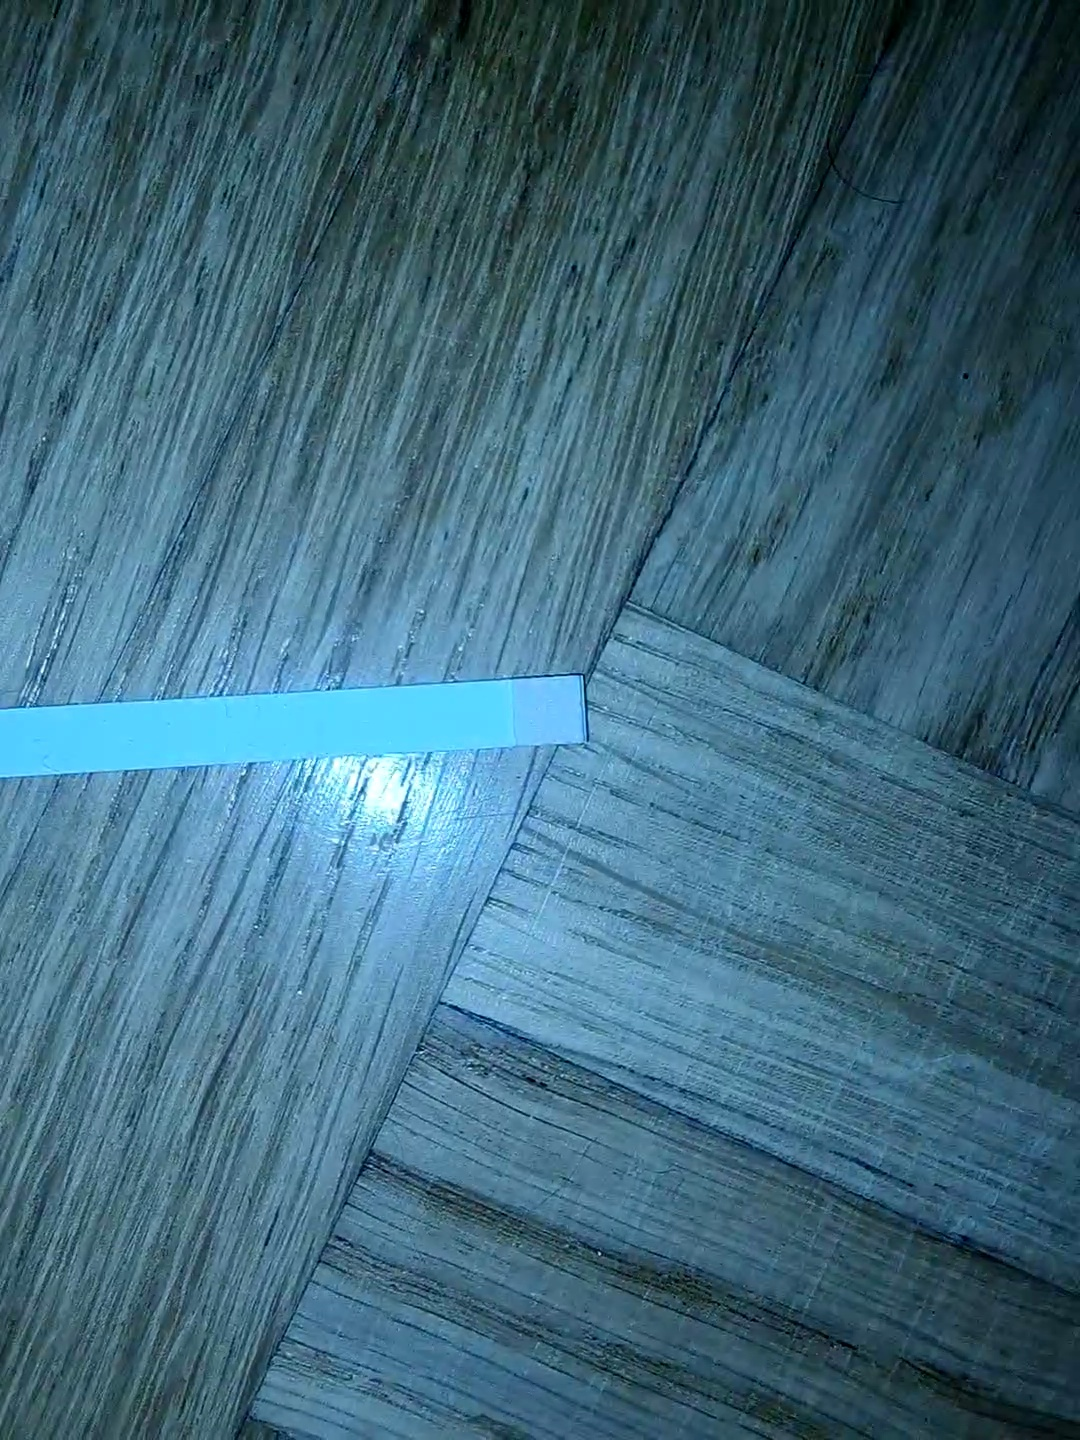keto-tip: (503, 671, 594, 752)
